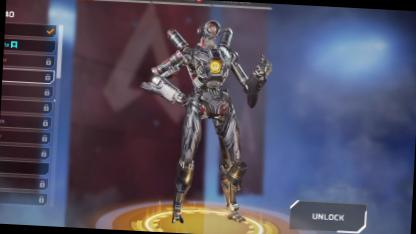Target: (177, 16, 245, 190)
